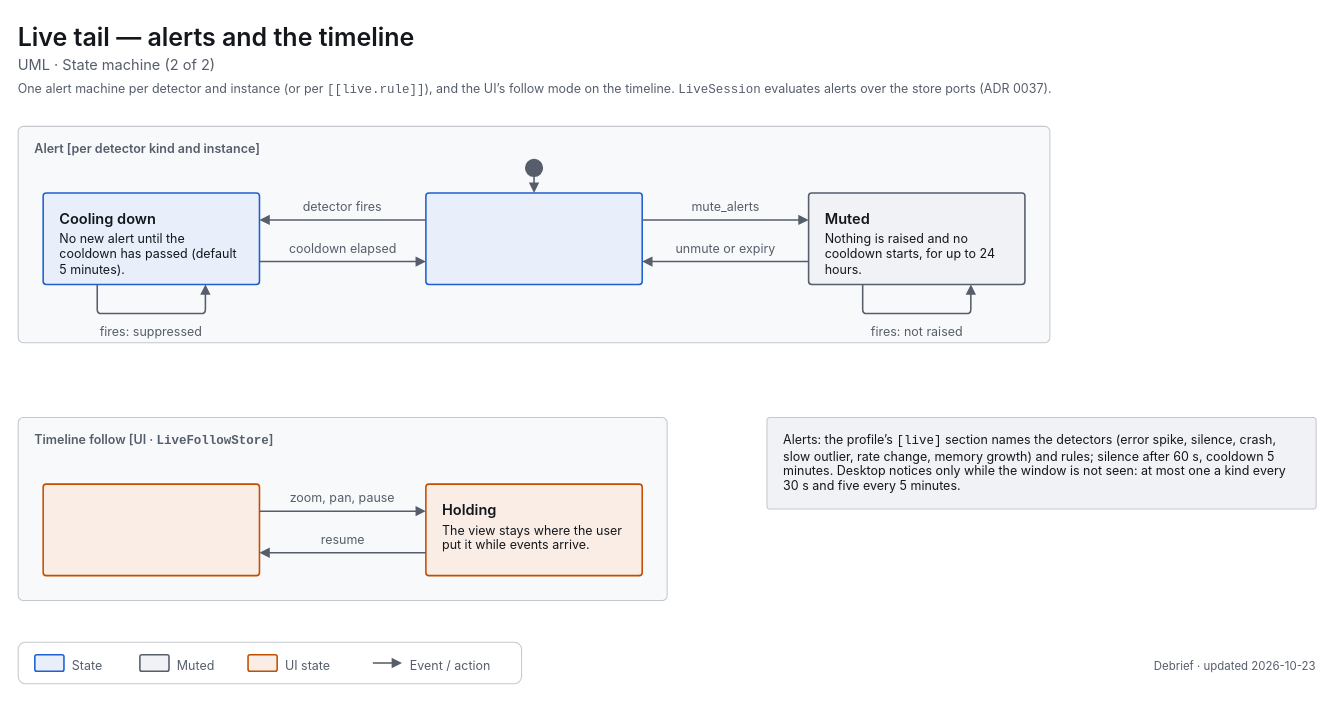
Image size: 1334x702. Some labels were removed from this diagram. Here are the shapes that lost their labels. From the top down, the centre of each, then its label:
point (534, 238): Armed Watching the events; ready to raise.
point (151, 529): Following The timeline keeps the newest events in view.
